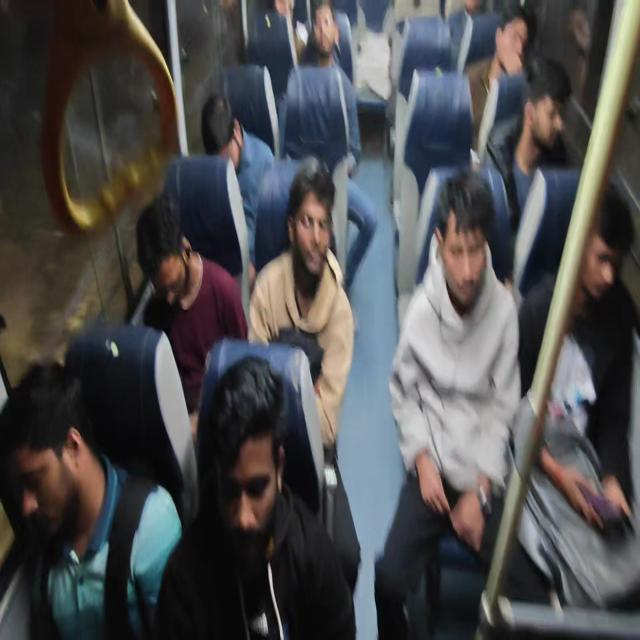person: (0, 350, 104, 545), (204, 362, 294, 542), (135, 196, 193, 316), (438, 177, 490, 301), (286, 153, 335, 284), (582, 171, 632, 294), (523, 61, 574, 159), (194, 83, 246, 175), (306, 0, 348, 72), (496, 8, 528, 82), (266, 0, 298, 28), (455, 0, 485, 24)
